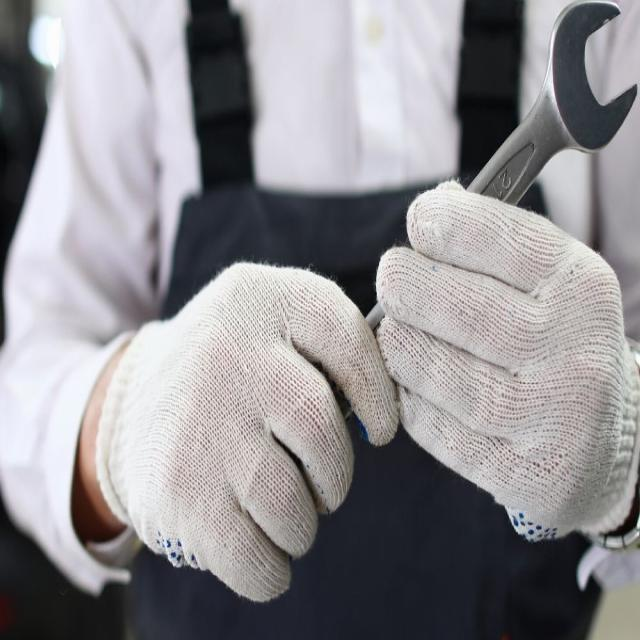gloves: (96, 257, 396, 601), (368, 172, 640, 546)
